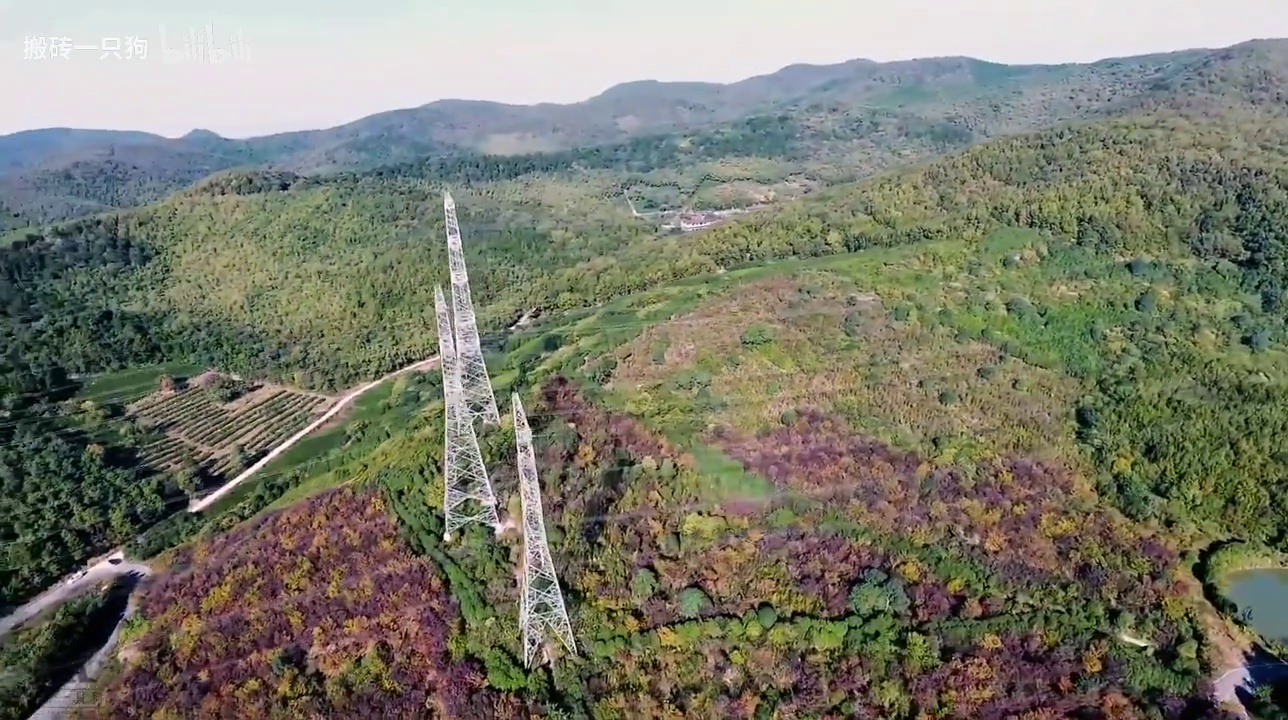tower_body: (500, 389, 601, 680), (427, 286, 508, 542)
tower_foot: (513, 606, 587, 673), (436, 483, 504, 535)
